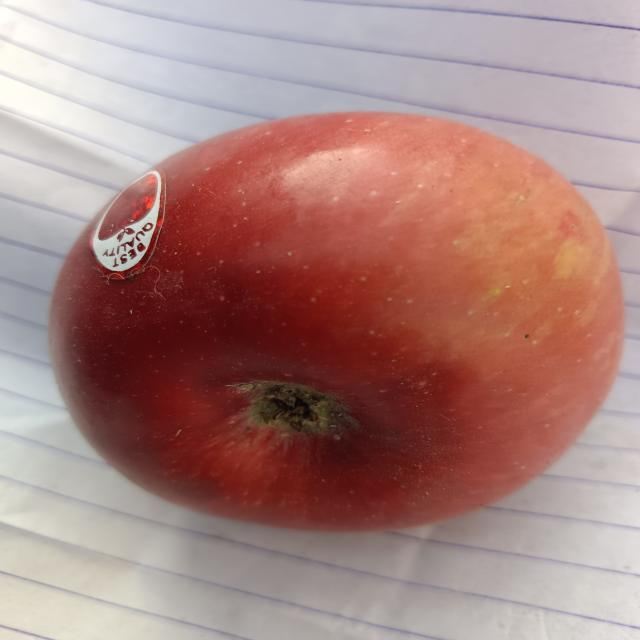Fresh Apple: (49, 116, 618, 516)
